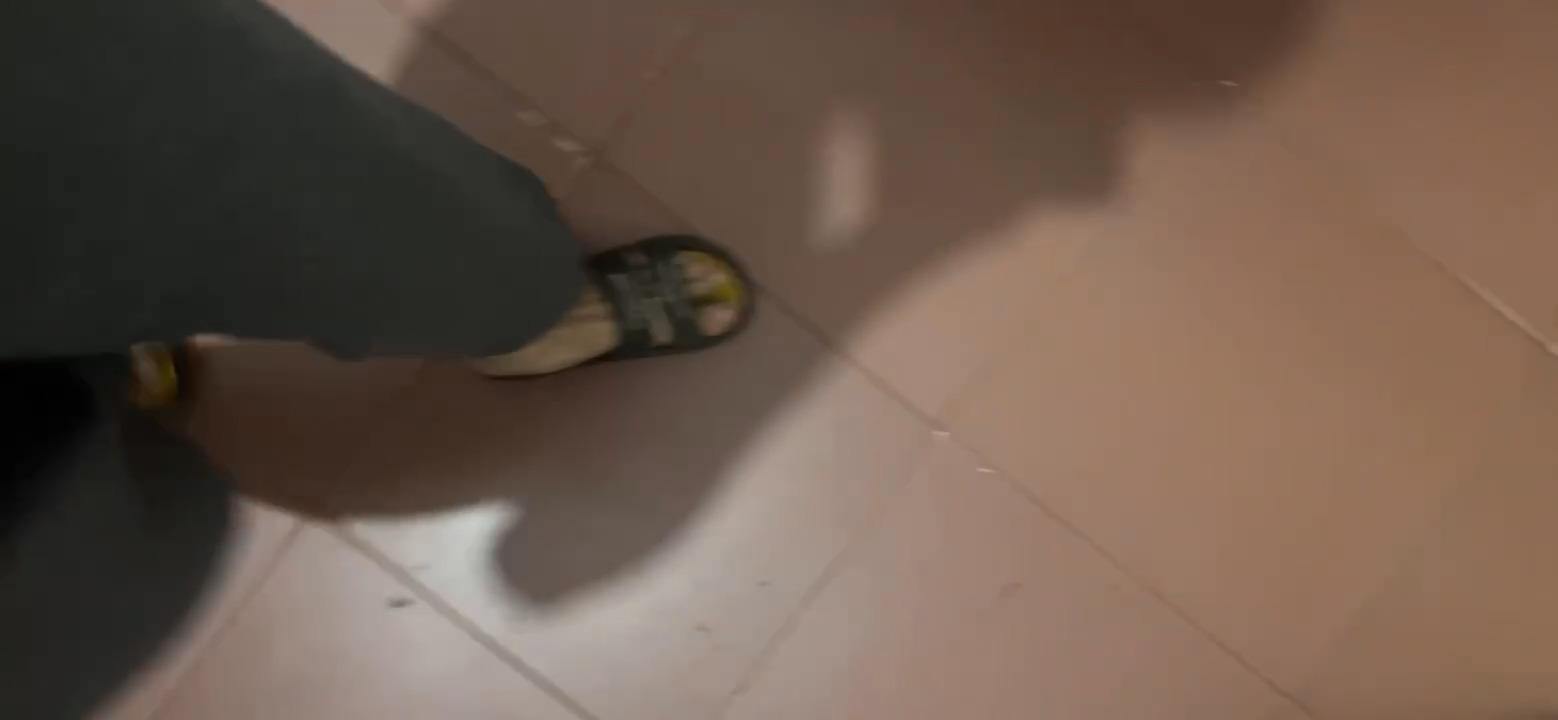no-boot: (481, 223, 763, 378)
